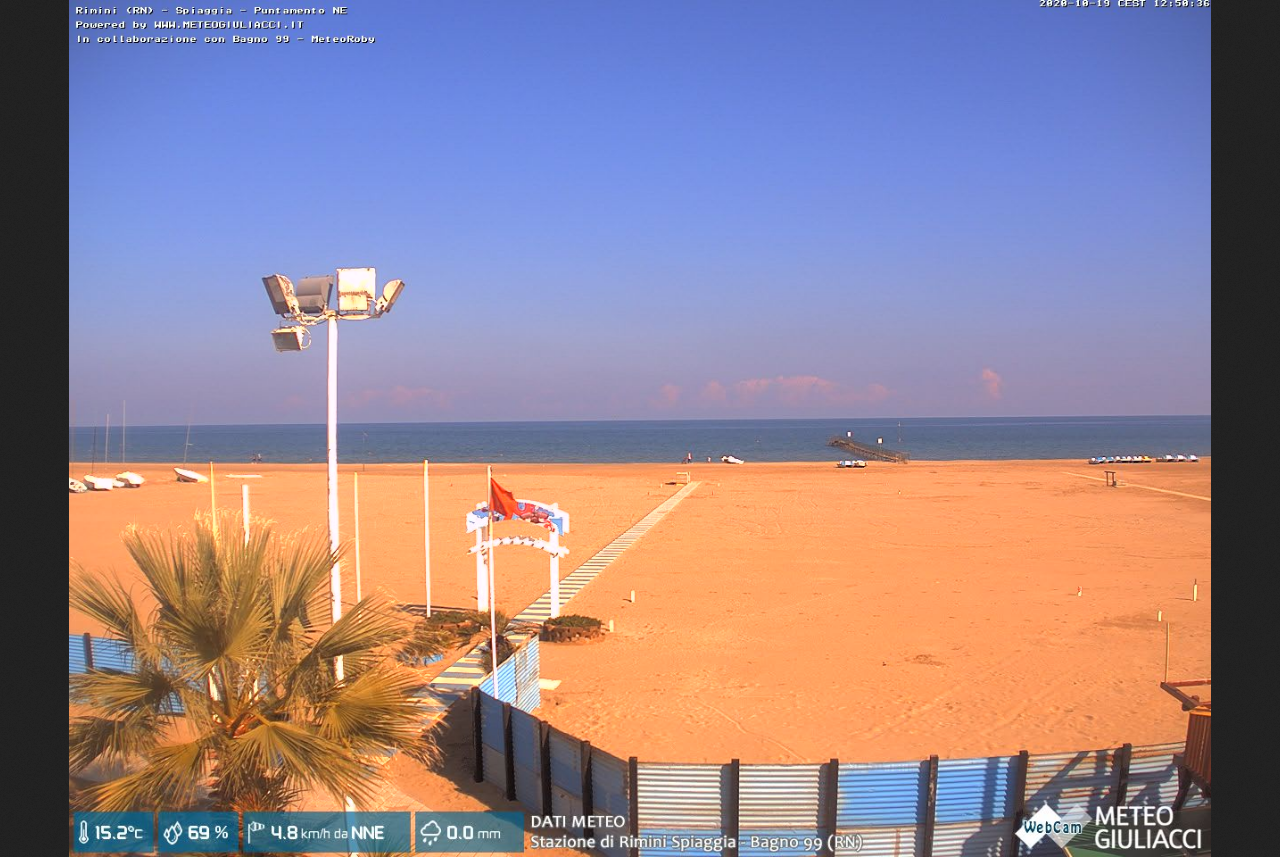maybe: (491, 477, 521, 522)
